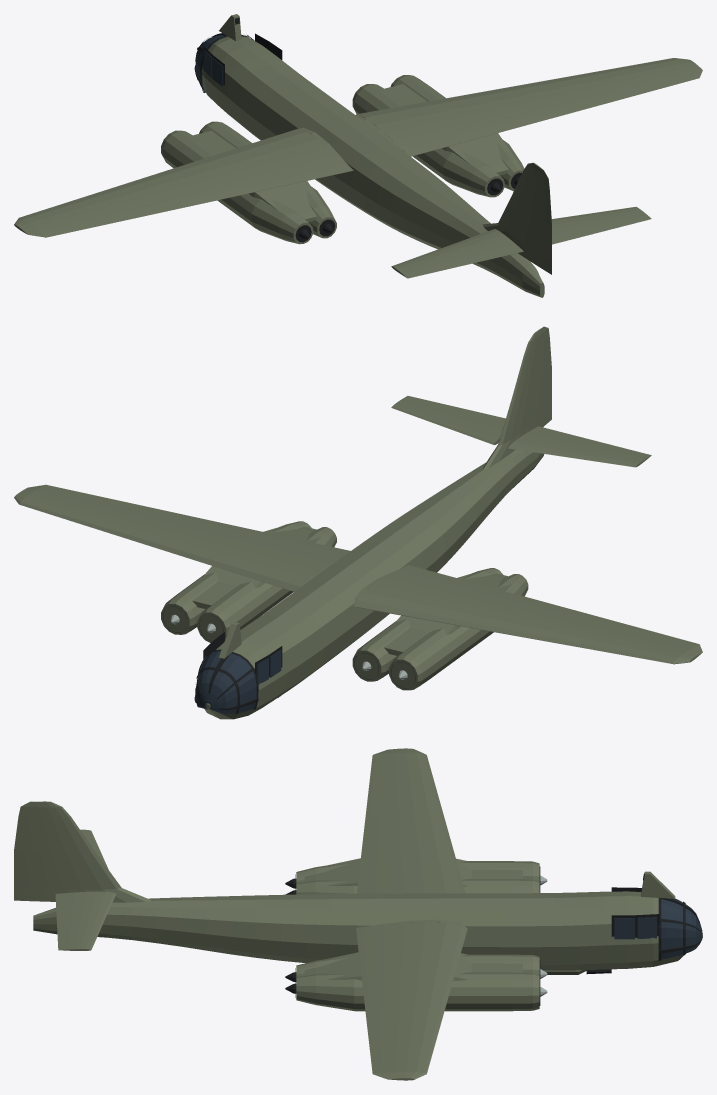
3 renders of one model, top to bottom at view 1: azimuth 30°, elevation 25°; view 2: azimuth 150°, elevation 25°; view 3: azimuth 270°, elevation 25°, orthographic.
Visible parts, largest first — view 1: Fuselage, Nacelles, Wing L, Wing R, Vertical Fin, Flap L, Flap R, Stabilizer L, Rudder, Aileron L, Aileron R, Stabilizer R (+4 smaller); view 2: Fuselage, Nacelles, Wing L, Wing R, Cockpit Glass, Vertical Fin, Stabilizer L, Stabilizer R, Flap L, Flap R, Canopy Frame, Rudder (+4 smaller); view 3: Fuselage, Nacelles, Wing R, Wing L, Vertical Fin, Cockpit Glass, Rudder, Stabilizer R, Flap R, Flap L, Canopy Frame, Aileron R (+3 smaller).
Boxes of the visible parts, x1,y1,x2,y2 form: Fuselage: (202, 36, 544, 297); Nacelles: (161, 75, 524, 244); Wing L: (14, 127, 353, 237); Wing R: (355, 58, 702, 156); Vertical Fin: (483, 162, 548, 260); Flap L: (175, 159, 345, 207); Flap R: (403, 104, 568, 155); Stabilizer L: (391, 229, 513, 274); Rudder: (530, 175, 551, 274); Aileron L: (44, 201, 174, 236); Aileron R: (569, 73, 694, 111); Stabilizer R: (551, 207, 645, 233); Fuselage: (204, 449, 544, 719); Nacelles: (161, 521, 528, 690); Wing L: (353, 565, 702, 664); Wing R: (14, 484, 350, 591); Cockpit Glass: (195, 649, 281, 713); Vertical Fin: (483, 326, 548, 469); Stabilizer L: (508, 432, 646, 467); Stabilizer R: (391, 399, 503, 444); Flap L: (403, 567, 568, 613); Flap R: (175, 514, 345, 556); Canopy Frame: (194, 632, 282, 713); Rudder: (536, 328, 551, 427); Fuselage: (33, 891, 702, 970); Nacelles: (296, 858, 539, 1011); Wing R: (356, 919, 467, 1080); Wing L: (365, 748, 465, 893); Vertical Fin: (21, 801, 151, 902); Cockpit Glass: (614, 898, 702, 959); Rudder: (14, 806, 52, 901); Stabilizer R: (69, 891, 116, 950); Flap R: (356, 928, 384, 1008); Flap L: (357, 818, 384, 893); Canopy Frame: (611, 873, 699, 960); Aileron R: (365, 1011, 385, 1071).
Size of the model in its own units: 14.1 by 3.4 by 12.45.
